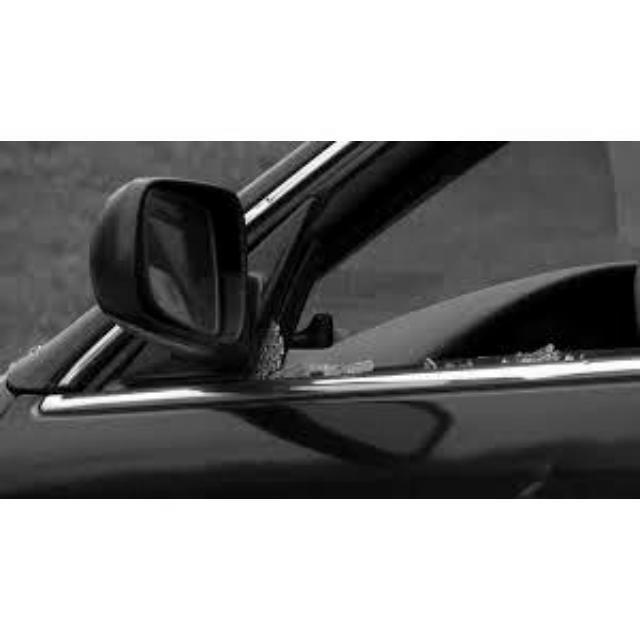doorouter-dent: (250, 195, 638, 497)
